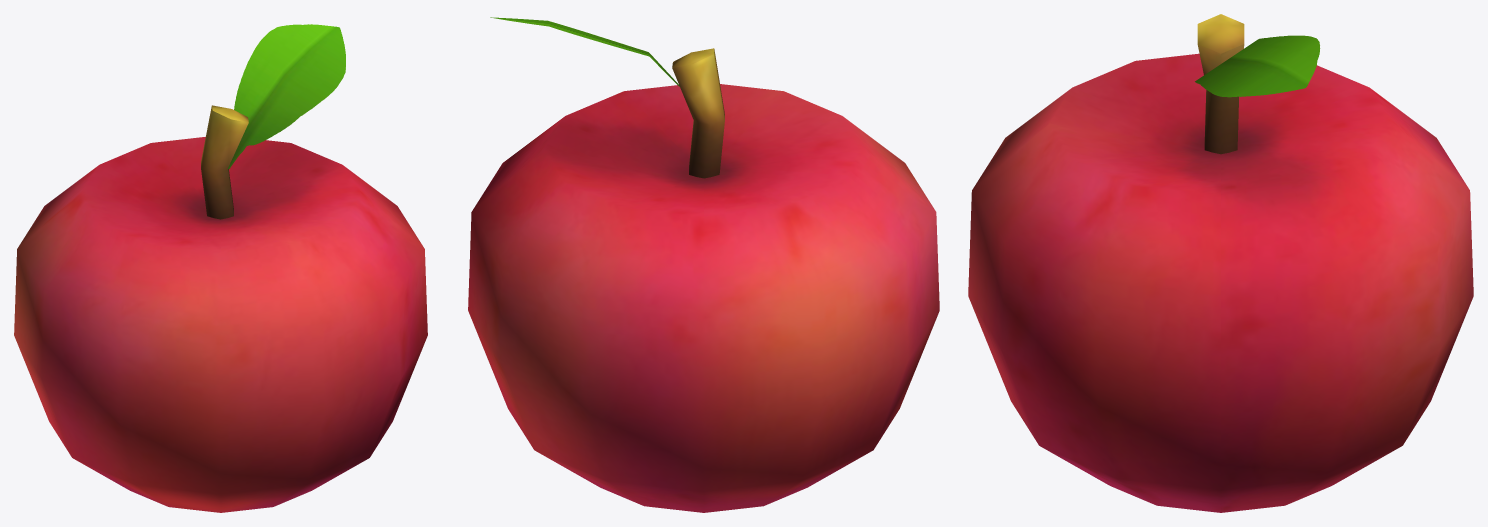
File: SE_Apple_01.fbx
3 renders of one model, left to right at view 1: azimuth 30°, elevation 25°; view 2: azimuth 150°, elevation 25°; view 3: azimuth 270°, elevation 25°, orthographic. The views are drawn at different scales.
Parts seen in each view (by area): view 1: SE_Apple_01; view 2: SE_Apple_01; view 3: SE_Apple_01.
Part boxes in pixels (box(x1,y1,x2,y2)): SE_Apple_01: box(14, 24, 427, 512); SE_Apple_01: box(468, 17, 939, 512); SE_Apple_01: box(968, 14, 1473, 512).
Size of the model in its own units: 1.01 by 1.07 by 1.01.
